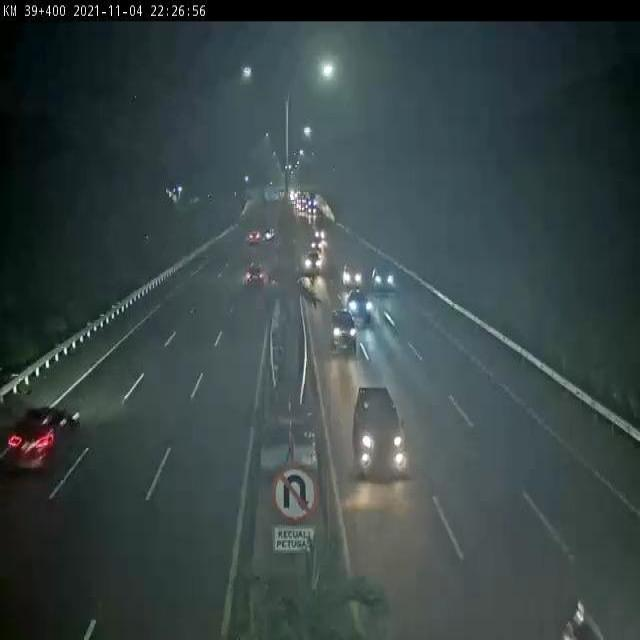car: (350, 380, 411, 476), (7, 401, 82, 475), (330, 308, 358, 352), (346, 290, 375, 322), (340, 262, 365, 290), (372, 262, 396, 290), (245, 263, 267, 289), (304, 252, 324, 276)
